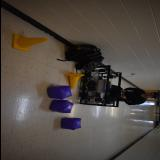cone: (12, 34, 48, 52), (64, 73, 84, 89)
cube: (47, 84, 71, 100), (49, 100, 73, 114), (60, 117, 80, 130)
